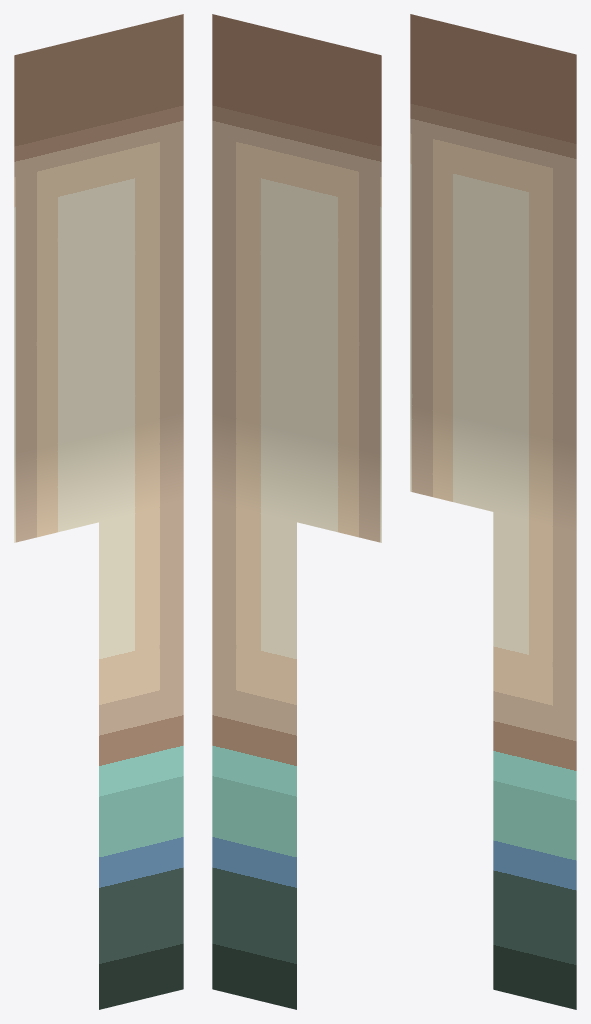
3 renders of one model, left to right at view 1: azimuth 30°, elevation 25°; view 2: azimuth 150°, elevation 25°; view 3: azimuth 330°, elevation 25°, orthographic. The views are drawn at different scales.
Bounding box in the file's own units: 1 × 5.5 × 0.
1 material, 1 textured.
